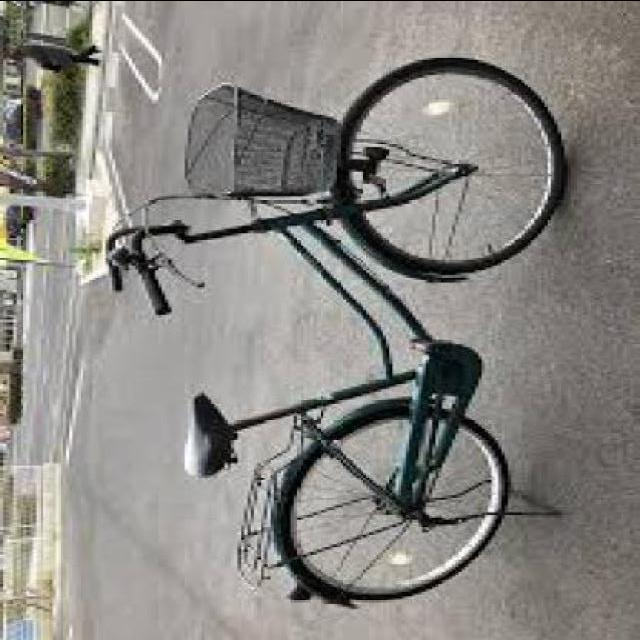bicycle: (1, 32, 590, 640)
